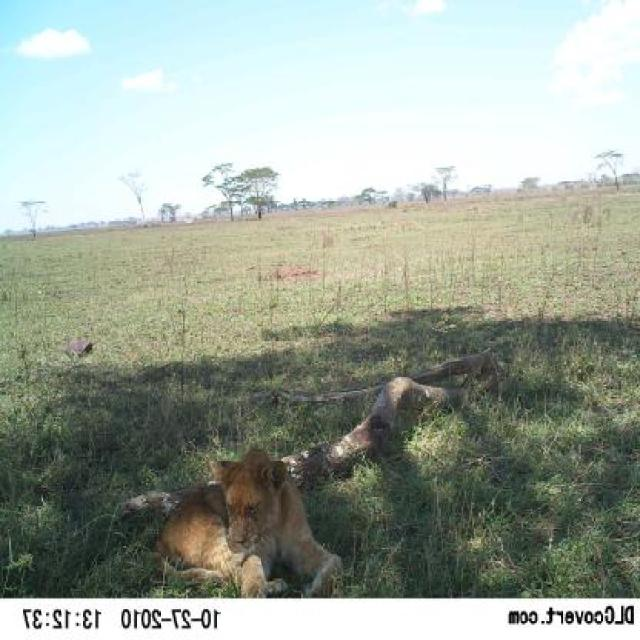Lion: (138, 443, 354, 603)
